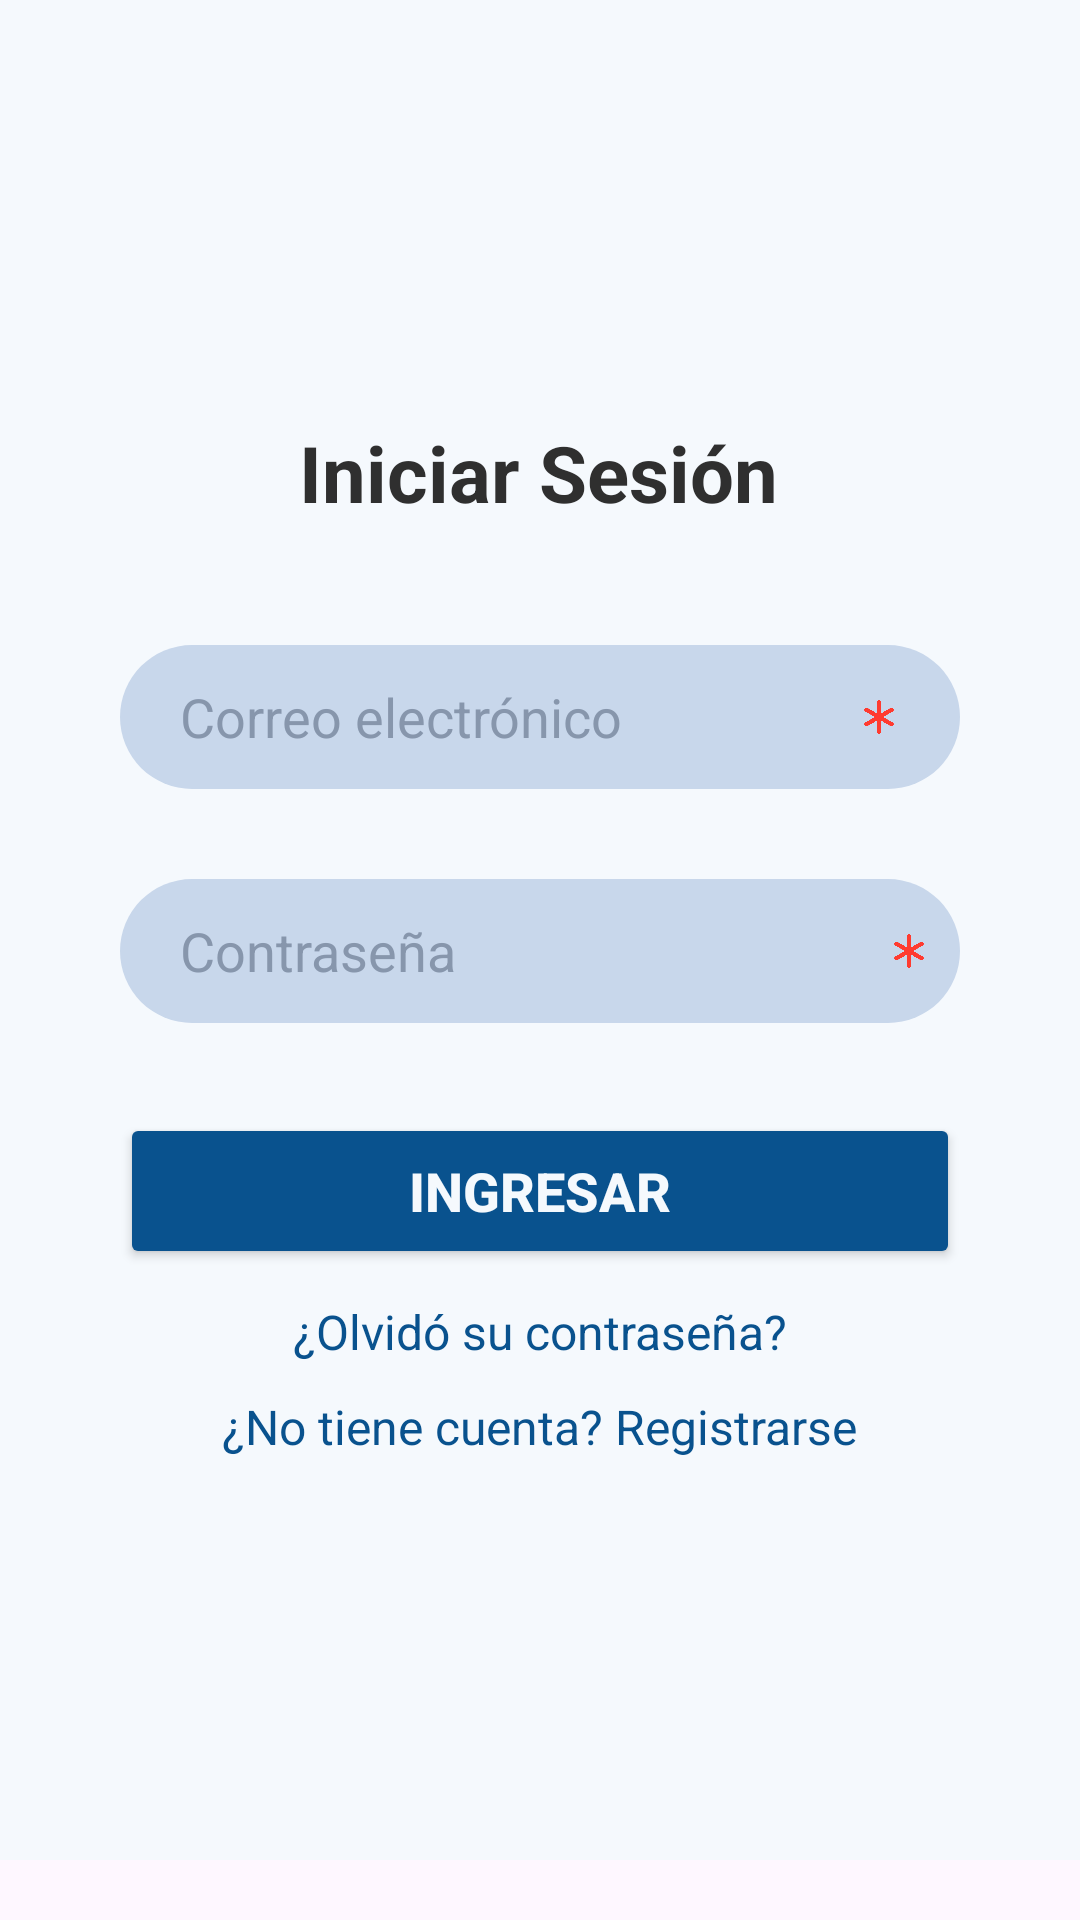

Where icons sit on this 1080x1920 app screen, as (left=x1, top=y1, right=x2, bottom=y2):
asterisk: (left=864, top=700, right=894, bottom=734), (left=894, top=934, right=924, bottom=968)
